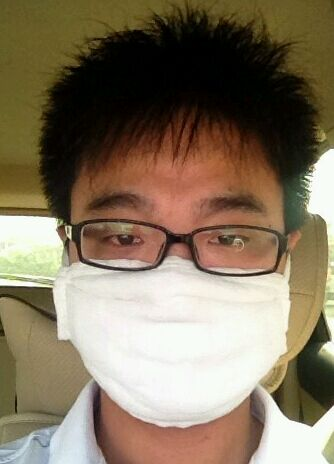face_mask: (54, 128, 291, 428)
